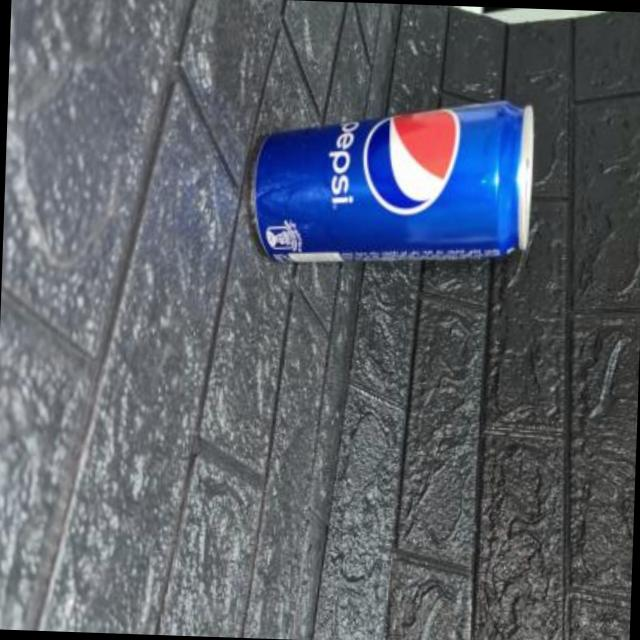metal: (255, 99, 534, 258)
